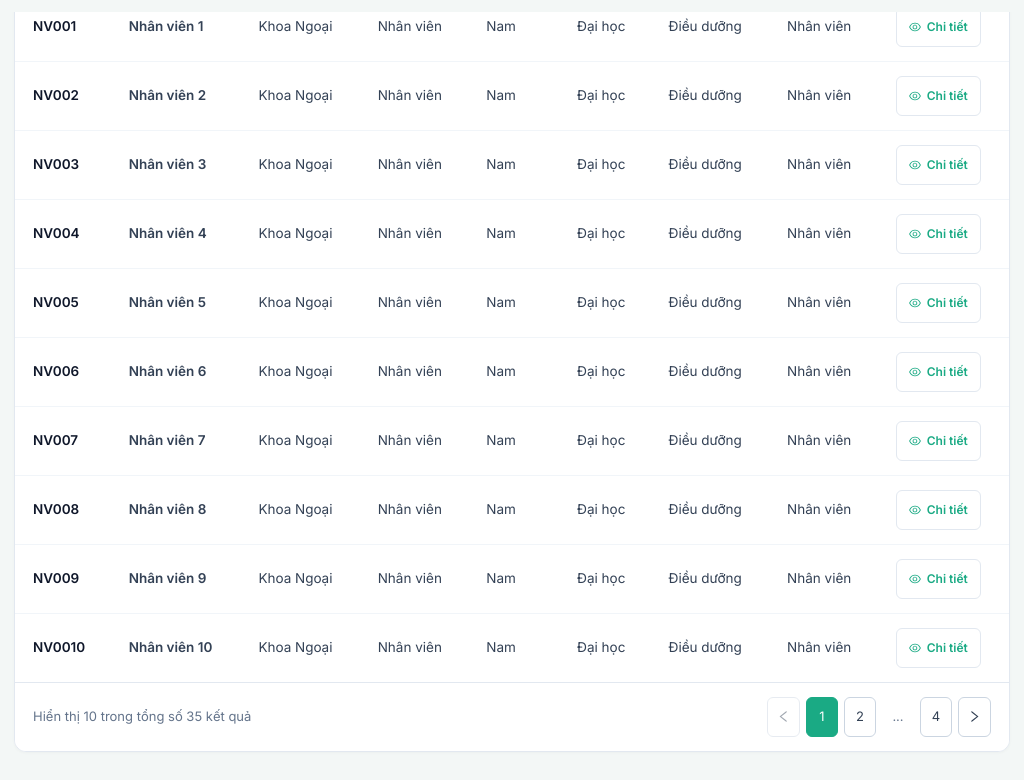
Scenario: ReferenceEmployeesListPage - phân trang › hiển thị 10 nhân viên mỗi trang và chuyển trang
(page scrolled)
Expected: the text "Nhân viên 1" is shown, top-left (129, 18), bottom-right (204, 34)
Expected: the text "Hiển thị 10 trong tổng số 35 kết quả" is shown, top-left (33, 707), bottom-right (251, 726)
Click the button "2" at (860, 717), box top-left (844, 697), bottom-right (876, 737)
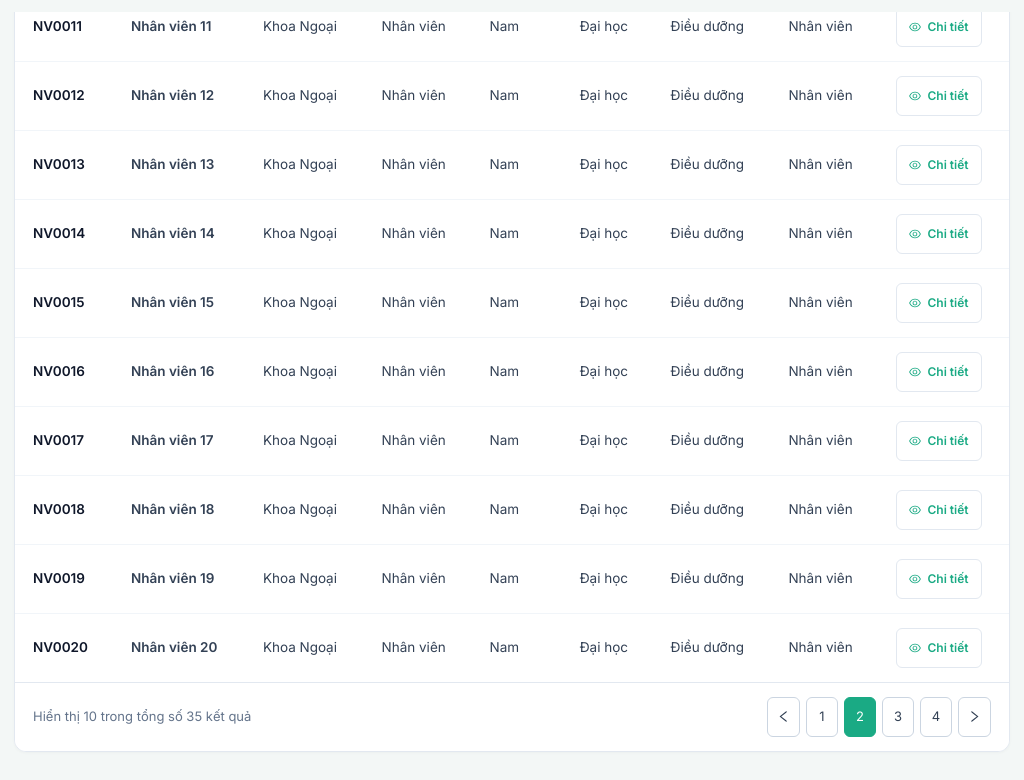
Result: the text "Nhân viên 11" is shown at top-left (131, 18), bottom-right (212, 34)
Click the button "4" at (936, 717), box top-left (920, 697), bottom-right (952, 737)
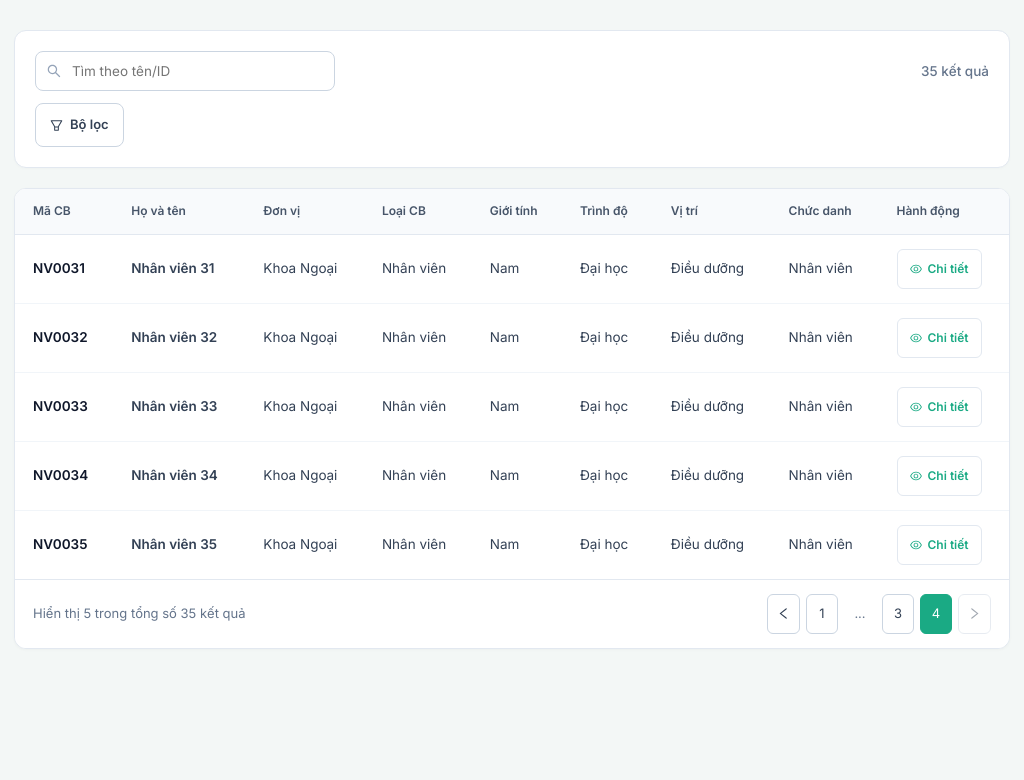
Result: the text "Nhân viên 31" is shown at top-left (131, 260), bottom-right (214, 276)
Result: the text "Hiển thị 5 trong tổng số 35 kết quả" is shown at top-left (33, 604), bottom-right (246, 624)
